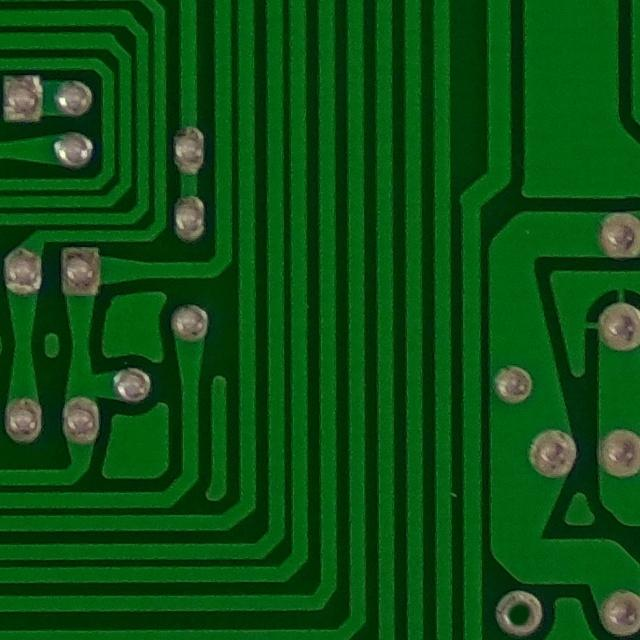missing_hole: (484, 579, 561, 640)
